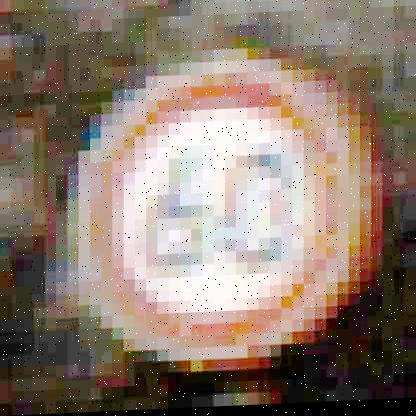Speed Limit -60-: (77, 55, 363, 367)
